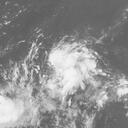cyclone: (50, 44, 94, 89)
